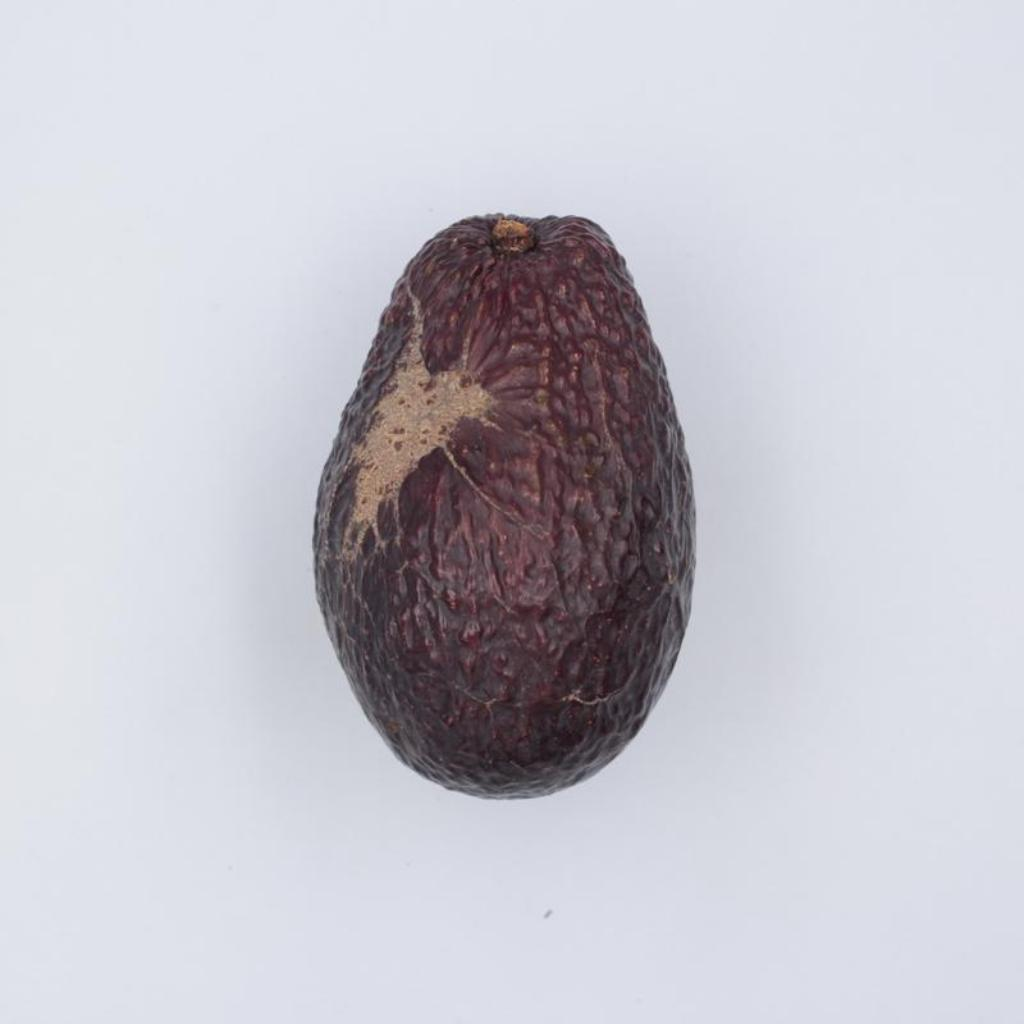rona: (315, 215, 694, 797)
